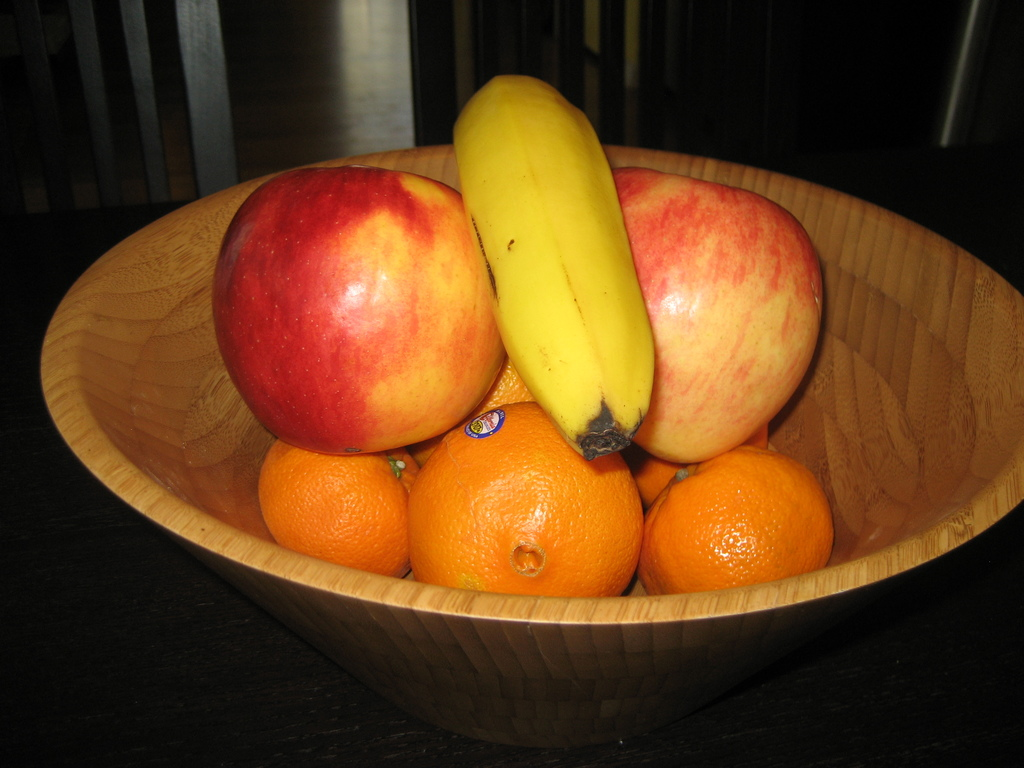Apple: (209, 161, 506, 456), (609, 164, 827, 462)
